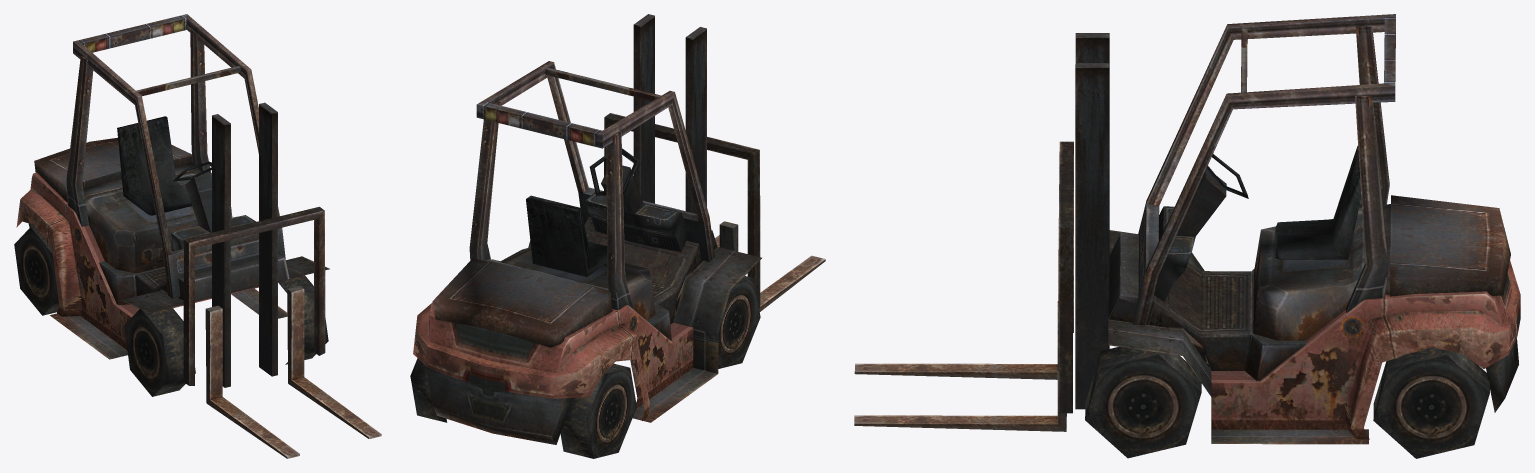
File: Prop_Forklift_lod2.glb
The picture shows the model from 3 angles, left to right: view 1: azimuth 30°, elevation 25°; view 2: azimuth 150°, elevation 25°; view 3: azimuth 270°, elevation 25°; orthographic projection. The views are drawn at different scales.
Visible parts, largest first — view 1: xiutz_chache_lod2; view 2: xiutz_chache_lod2; view 3: xiutz_chache_lod2.
Part boxes in pixels (x1,y1,x2,y2): xiutz_chache_lod2: (14,14,381,458); xiutz_chache_lod2: (410,14,825,458); xiutz_chache_lod2: (854,14,1520,458).
Bounding box in the file's own units: 2.36 × 3.41 × 5.75.
1 material, 1 textured.
